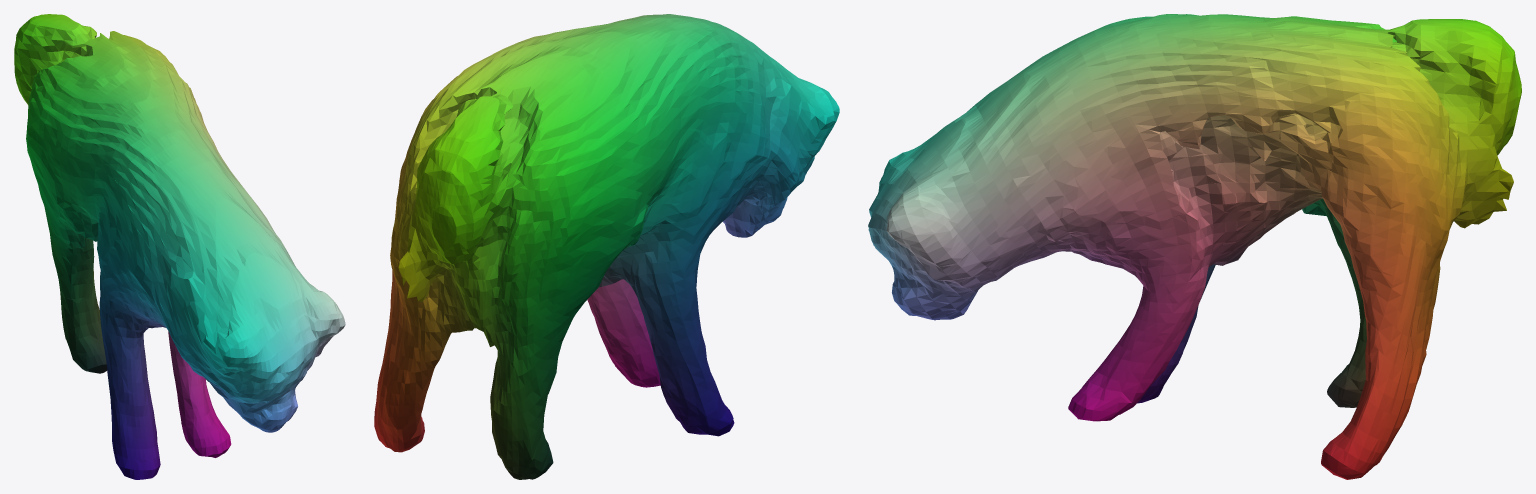
The model's file is shiba-haru-1001-mesh-00061.obj.
The picture shows the model from 3 angles, left to right: view 1: azimuth 30°, elevation 25°; view 2: azimuth 150°, elevation 25°; view 3: azimuth 270°, elevation 25°; orthographic projection. The views are drawn at different scales.
Size of the model in its own units: 0.0505 by 0.0836 by 0.1191.
